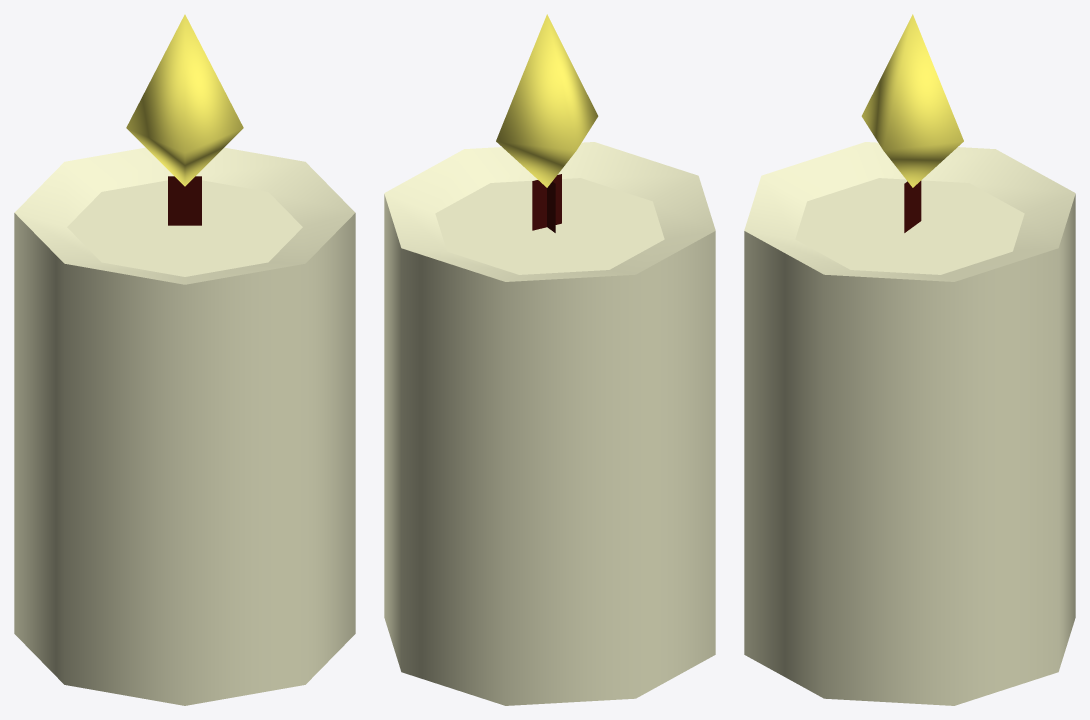
Rendered from Candle.glb.
3 renders of one model, left to right at view 1: azimuth 30°, elevation 25°; view 2: azimuth 150°, elevation 25°; view 3: azimuth 270°, elevation 25°, orthographic.
Parts seen in each view (by area): view 1: Candle; view 2: Candle; view 3: Candle.
Boxes of the visible parts, <box> form: Candle: <box>14,14,355,705</box>; Candle: <box>384,14,715,705</box>; Candle: <box>744,14,1075,705</box>.
Size of the model in its own units: 0.3885 by 0.805 by 0.3885.
1 material, 1 textured.
